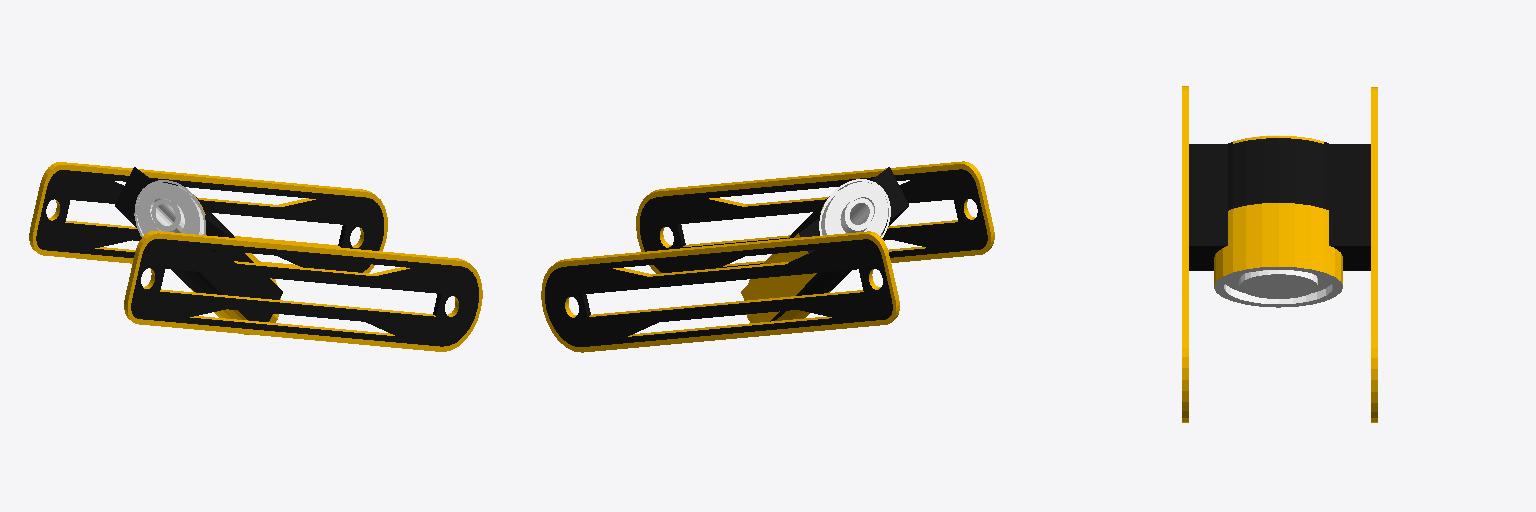
The model's file is dev1_2.obj.
3 renders of one model, left to right at view 1: azimuth 30°, elevation 25°; view 2: azimuth 150°, elevation 25°; view 3: azimuth 270°, elevation 25°, orthographic.
Visible parts, largest first — view 1: Onderarm_001; view 2: Onderarm_001; view 3: Onderarm_001.
Part boxes in pixels (left/top/right/bottom): Onderarm_001: left=29, top=162, right=482, bottom=351; Onderarm_001: left=541, top=161, right=994, bottom=352; Onderarm_001: left=1182, top=86, right=1377, bottom=422.
Size of the model in its own units: 39.46 by 20.17 by 18.93.